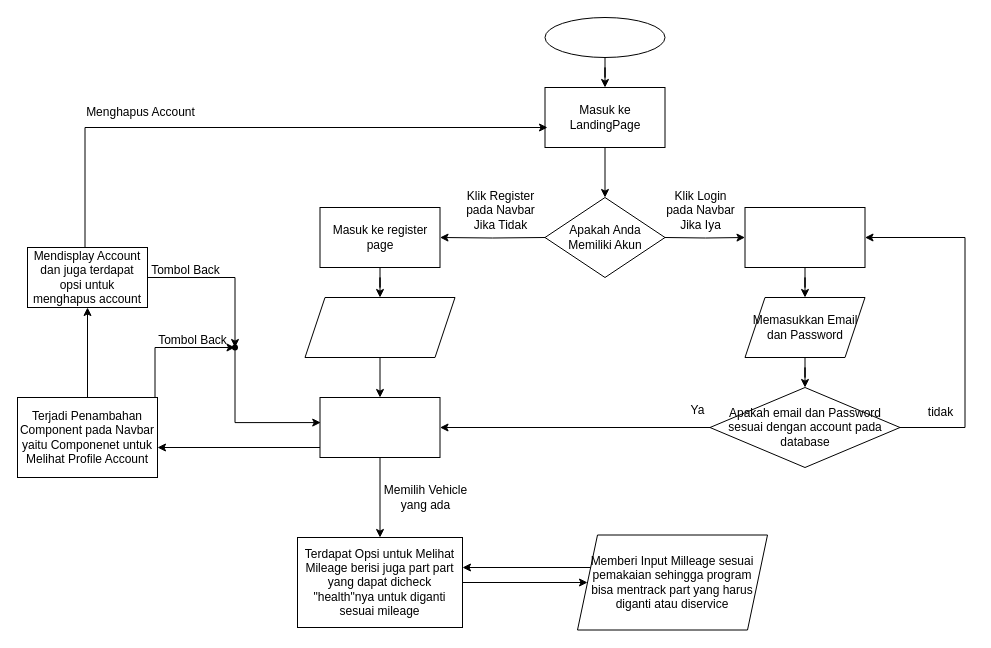
Some shapes in this 991 by 648 pixel diagram are drawn without their labels. Here are the shapes that lost their labels. From the top down, the centre of each, then its label:
[604,37]: Start
[804,237]: Masuk ke login page
[379,327]: Menerima nama, email, dan Password
[379,427]: Masuk ke Dashboard Terdapat pilihan Vehicle yang ada pada garage
